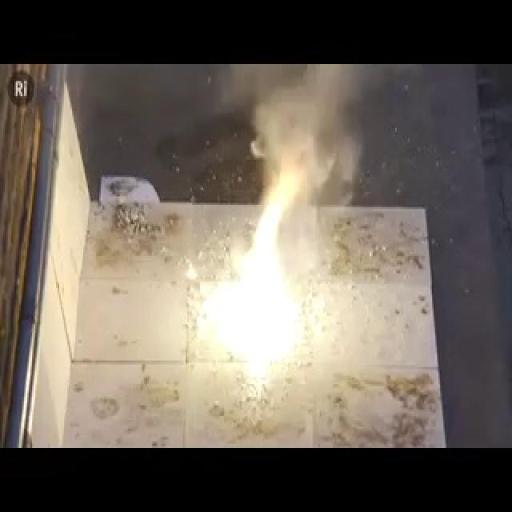smoke: (199, 191, 311, 383)
